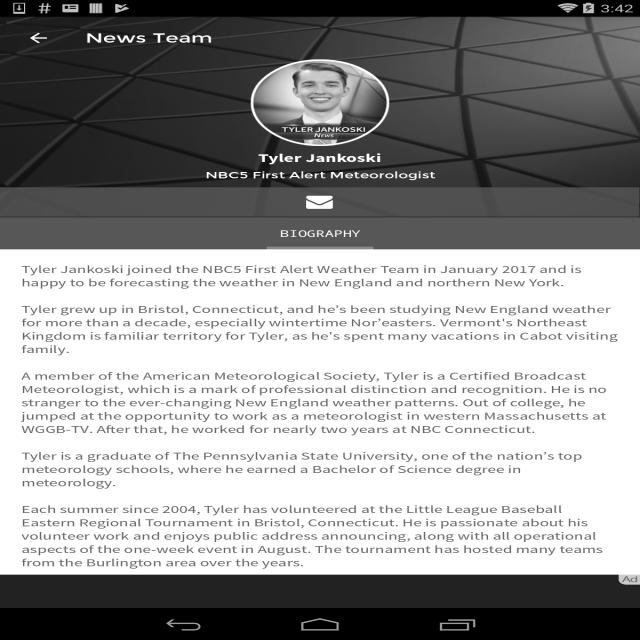ImageButton: (9, 17, 68, 59)
ImageView: (0, 17, 640, 217), (251, 59, 389, 146), (618, 574, 640, 584)
TextView: (21, 262, 618, 640), (0, 187, 639, 216), (205, 169, 435, 181), (258, 150, 381, 167), (85, 30, 213, 46), (280, 227, 360, 240)
